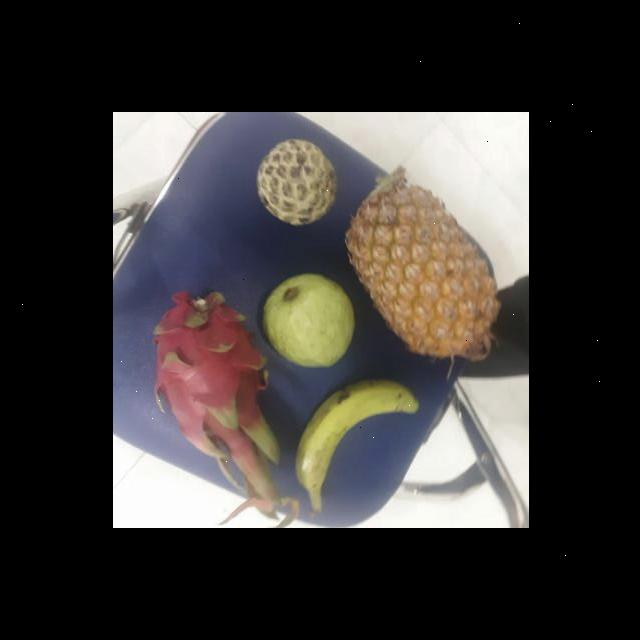Sakya fruit: (255, 138, 335, 228)
guava: (260, 274, 350, 370)
pineapple: (348, 180, 500, 358)
pitaya: (150, 294, 273, 459)
